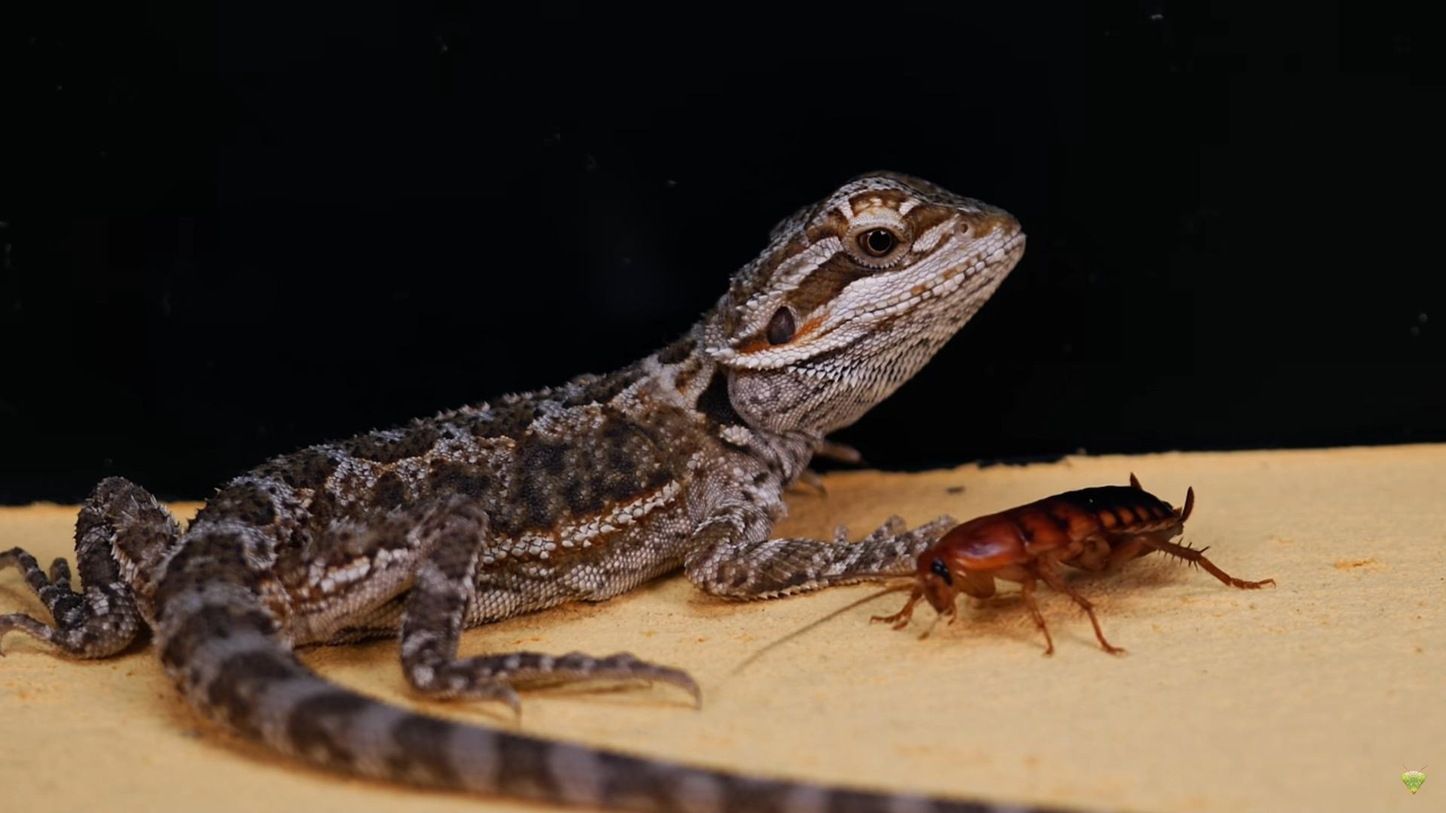cockroach: (893, 475, 1269, 656)
lizard: (43, 159, 1030, 799)
